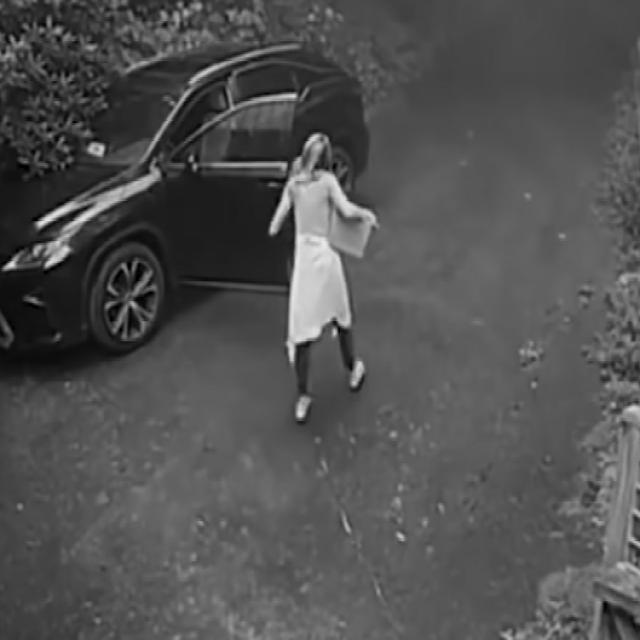Car: (0, 25, 394, 370)
